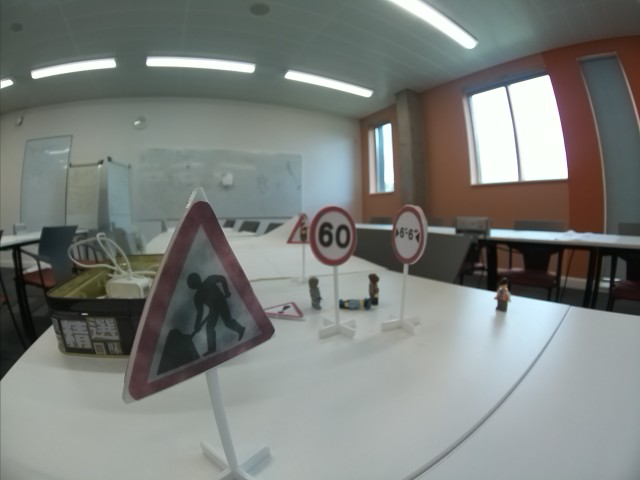60mph: (310, 205, 359, 265)
6ft6: (391, 206, 426, 266)
Lego Man: (494, 278, 510, 313), (308, 275, 322, 311), (338, 298, 373, 311), (368, 273, 381, 305)
Roadworks: (125, 199, 263, 405)
Traffic lights: (287, 213, 314, 243)
Warning: (260, 300, 306, 321)
